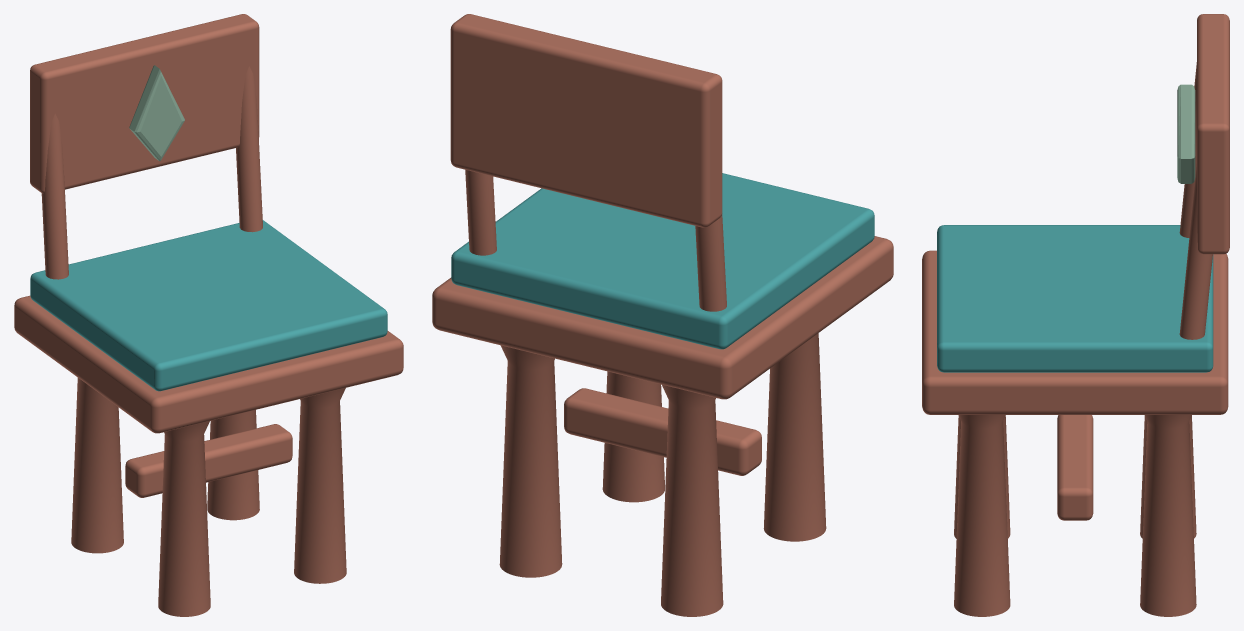
File: enchanted-harp-garden-and-music-sanctuary-rehearsal-se-54ecdb1c__30429.glb
The picture shows the model from 3 angles, left to right: view 1: azimuth 30°, elevation 25°; view 2: azimuth 150°, elevation 25°; view 3: azimuth 270°, elevation 25°; orthographic projection. The views are drawn at different scales.
Parts seen in each view (by area): view 1: rehearsal-seat; view 2: rehearsal-seat; view 3: rehearsal-seat.
Part boxes in pixels (box(x1,y1,x2,y2)): rehearsal-seat: box(14, 14, 403, 616); rehearsal-seat: box(432, 14, 893, 616); rehearsal-seat: box(922, 14, 1229, 616).
Size of the model in its own units: 0.52 by 0.92 by 0.5125.
